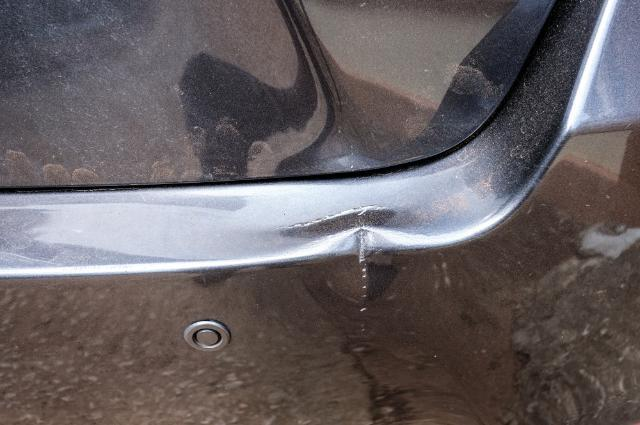dent: (181, 0, 550, 179), (326, 230, 398, 304)
